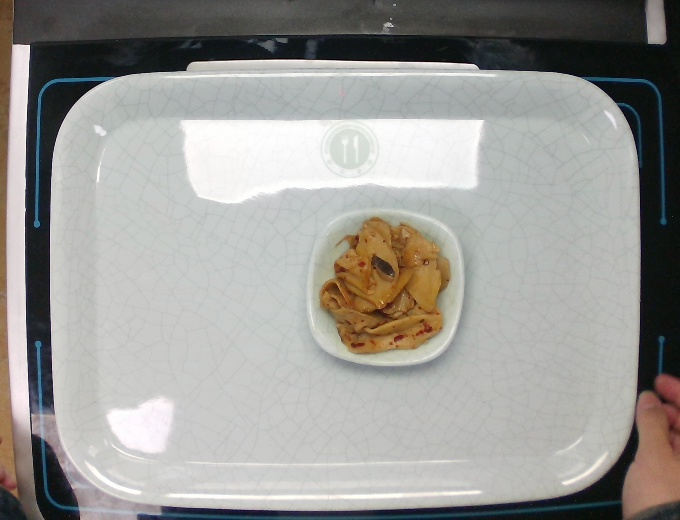JYsf-Si_Fang_Die: (304, 208, 470, 372)
